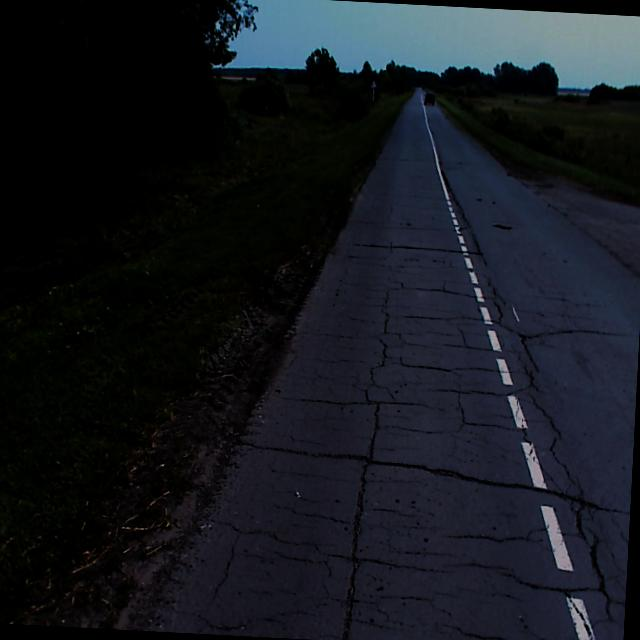road: (138, 88, 640, 640)
